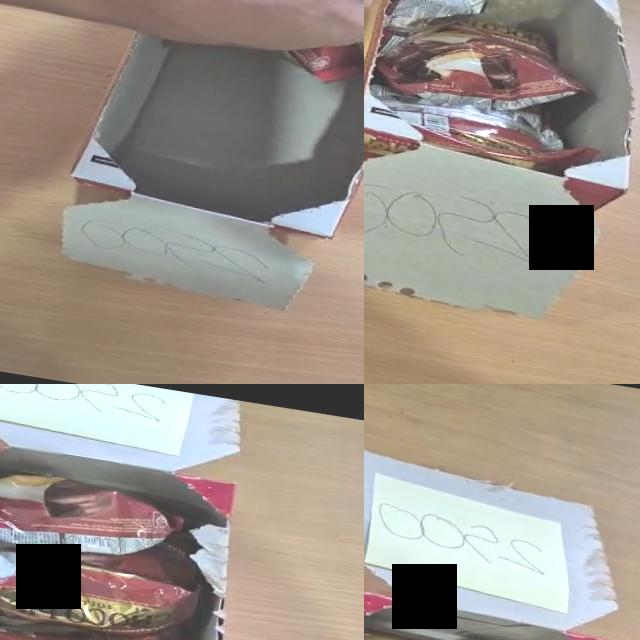Chocopie: (0, 457, 188, 570), (0, 537, 202, 640), (377, 19, 586, 110), (379, 32, 583, 106), (384, 102, 592, 170), (279, 0, 364, 95), (0, 596, 177, 640), (387, 0, 486, 35)
